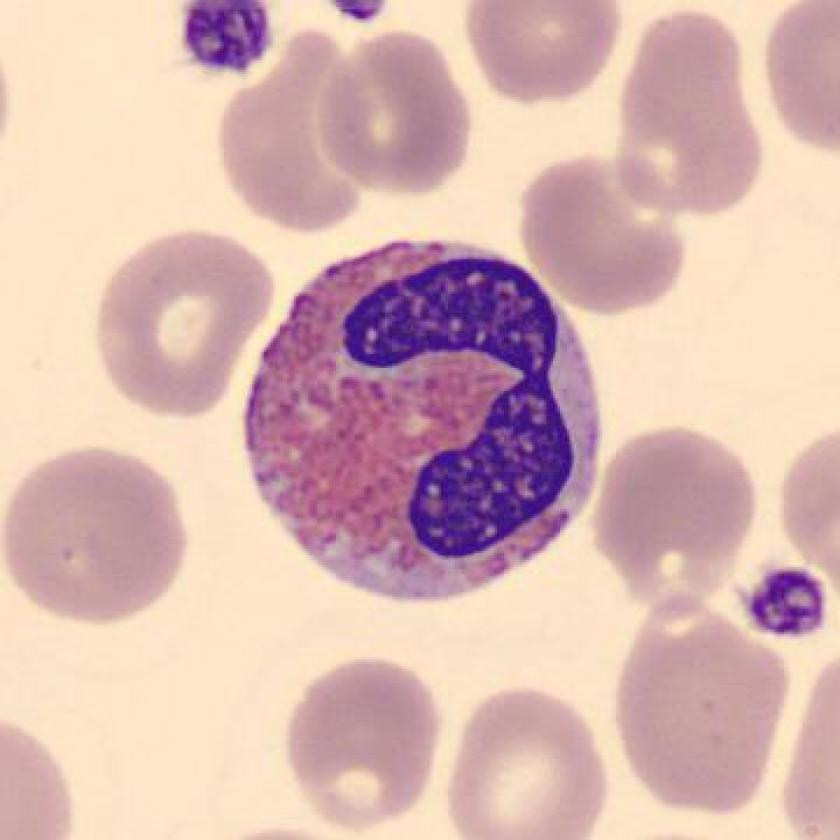eosinophil: (232, 219, 615, 614)
